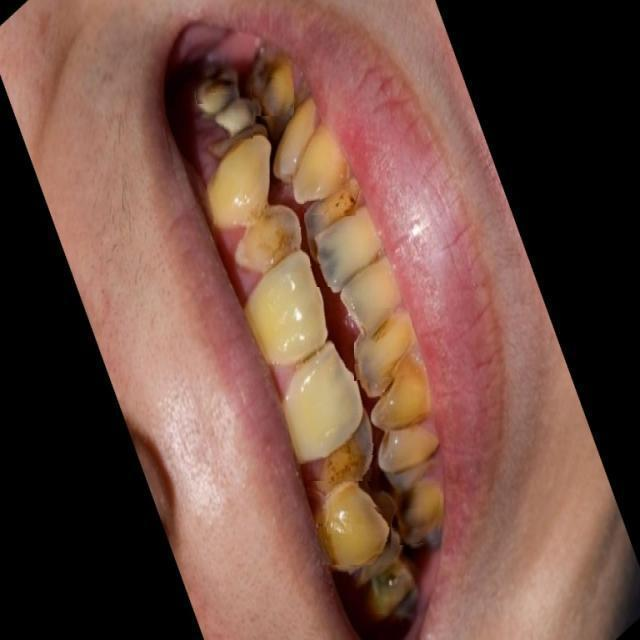Cavity: (319, 502, 391, 565), (354, 308, 413, 381), (310, 215, 368, 287), (307, 434, 377, 481), (241, 216, 303, 268), (392, 481, 441, 546), (356, 566, 414, 614), (249, 62, 294, 116), (304, 182, 358, 222), (208, 93, 253, 139), (193, 66, 234, 104)
